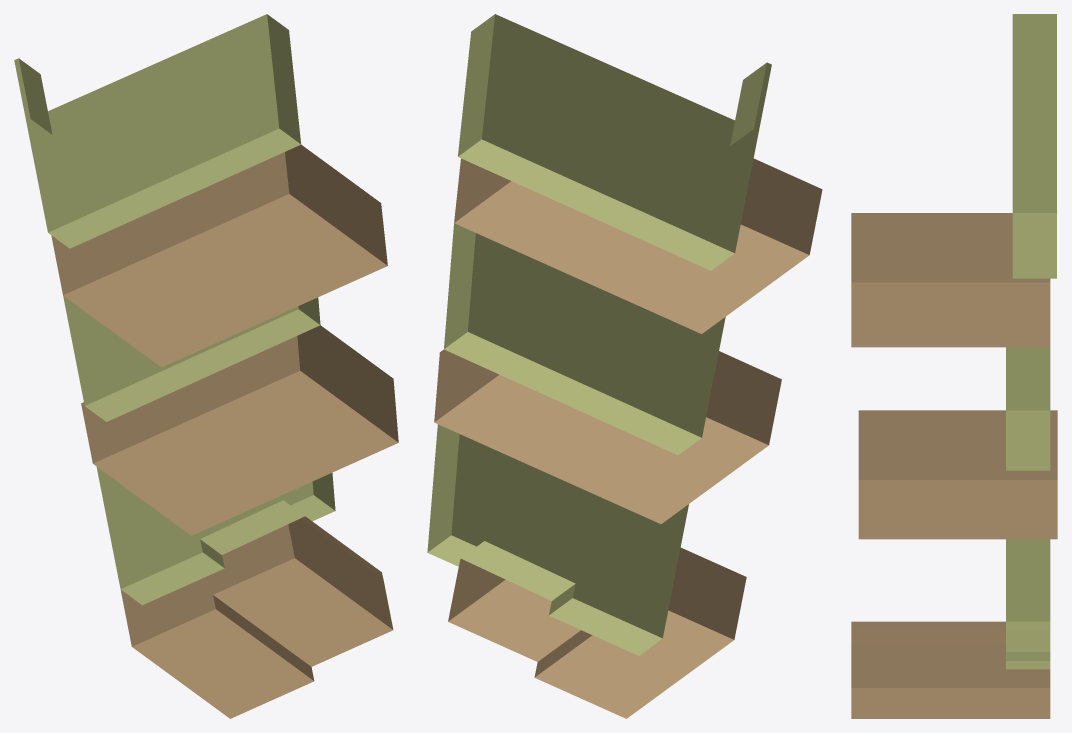
3 views of the same model, side by side, from view 1: azimuth 30°, elevation 25°; view 2: azimuth 150°, elevation 25°; view 3: azimuth 270°, elevation 25° (orthographic). The views are drawn at different scales.
Parts seen in each view (by area): view 1: 0_0_3_1_2_3_3_3; view 2: 0_0_3_1_2_3_3_3; view 3: 0_0_3_1_2_3_3_3.
Part boxes in pixels (x1=…): 0_0_3_1_2_3_3_3: x1=14, y1=14, x2=398, y2=718; 0_0_3_1_2_3_3_3: x1=427, y1=14, x2=822, y2=718; 0_0_3_1_2_3_3_3: x1=851, y1=14, x2=1057, y2=718.
Bounding box in the file's own units: 46.83 × 92.63 × 28.
